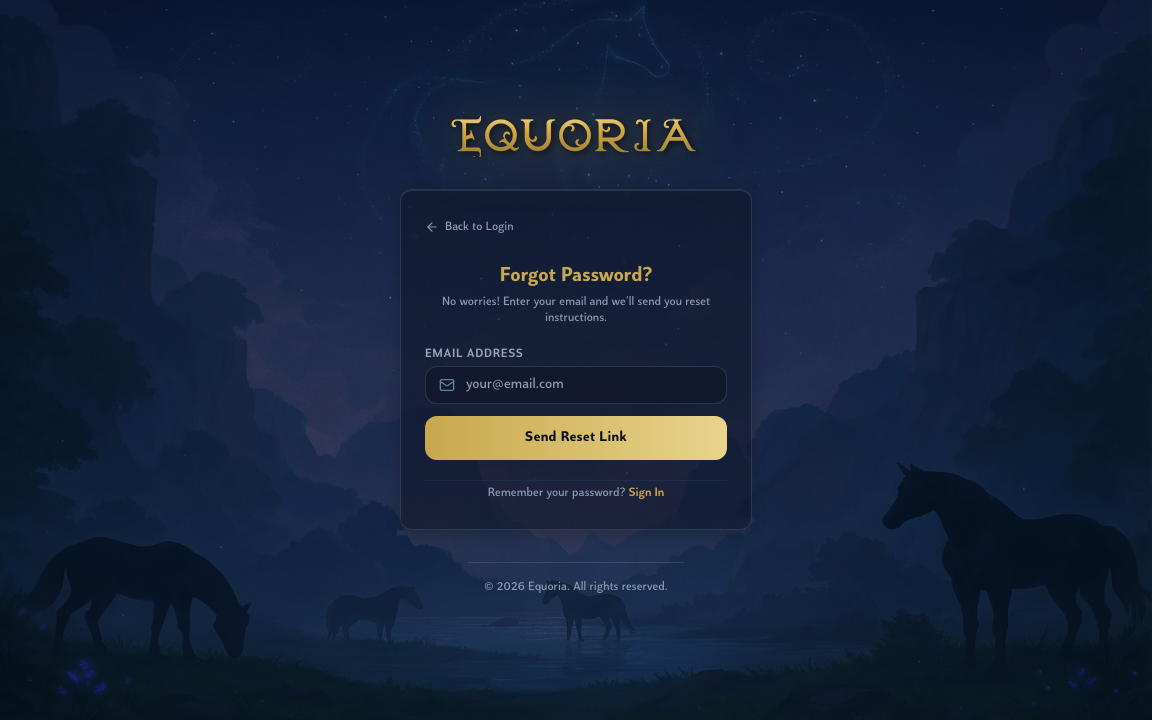
it: ForgotPasswordPage › Form Validation › shows error for invalid email format
The image size is (1152, 720).
Step 1. Type "invalid-email" into the field with placeholder "your@email.com" → (576, 385), box [425,366,727,404]
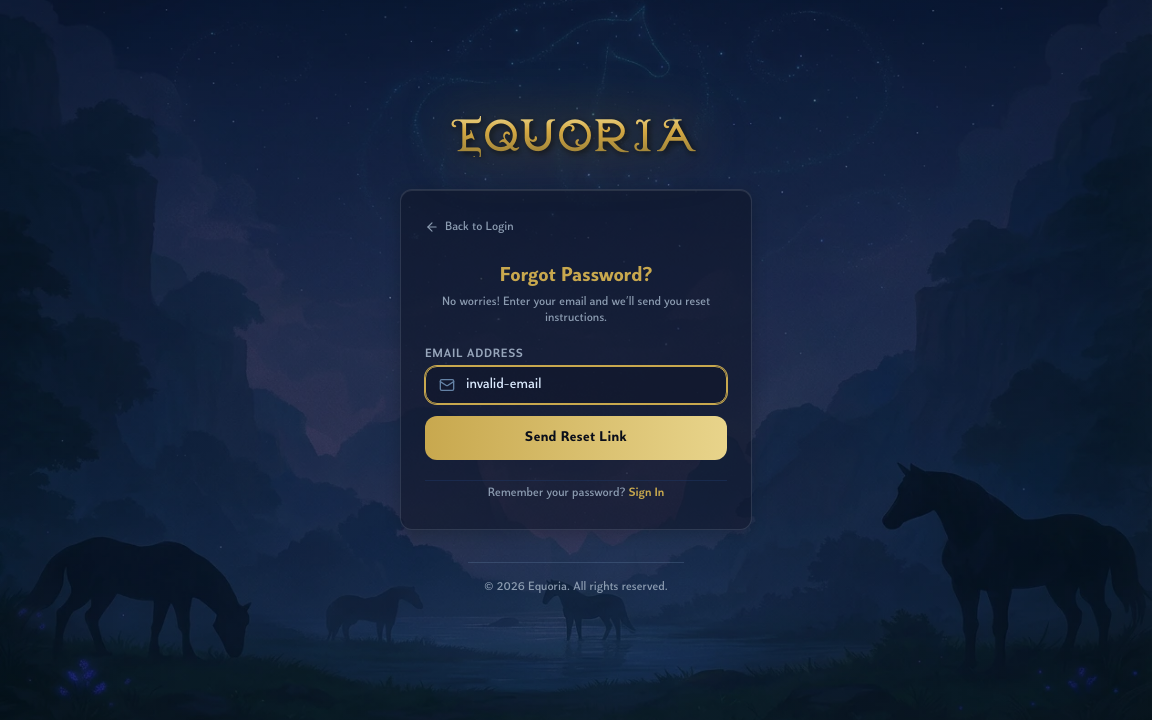
# Submit form directly
Step 2. Submit the form "Email Address Send Reset Link", box [425,346,727,460]
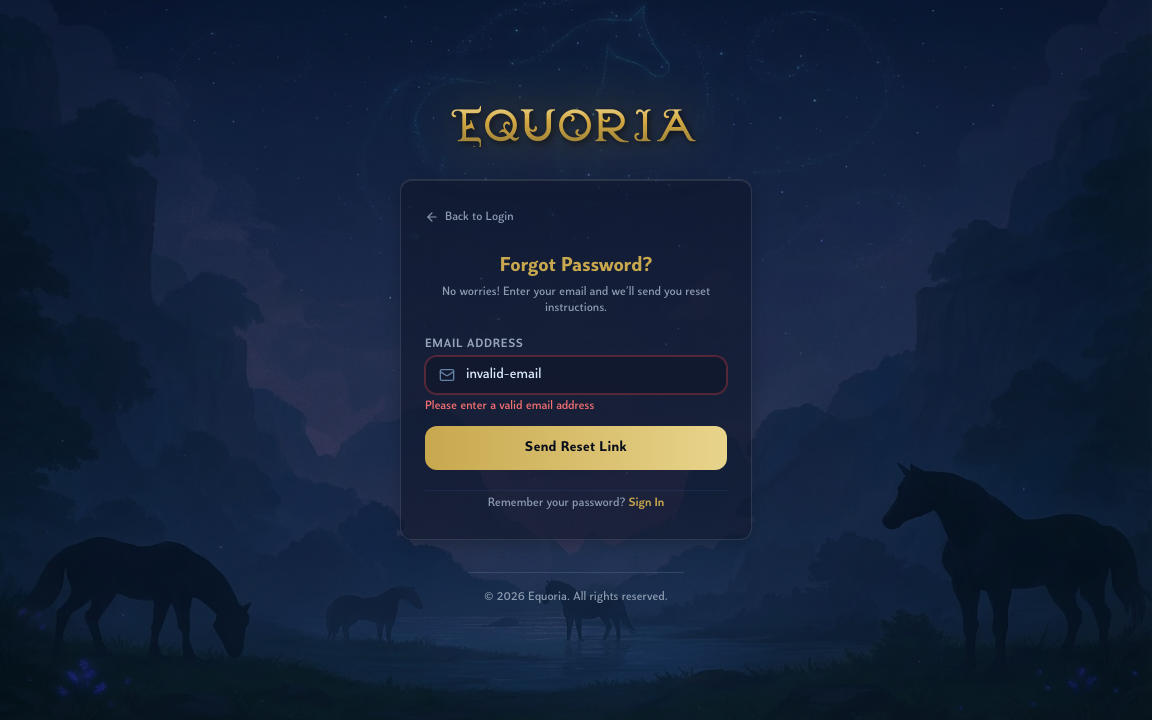
Expected: the text "Please enter a valid email address" is shown, [425,400,594,412]
